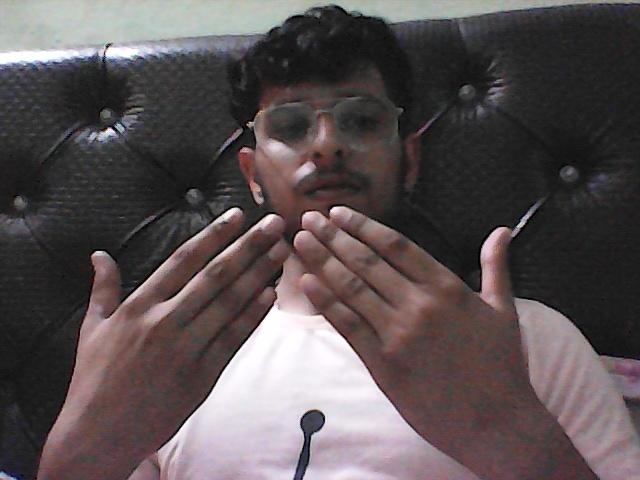thankyou: (39, 203, 545, 464)
